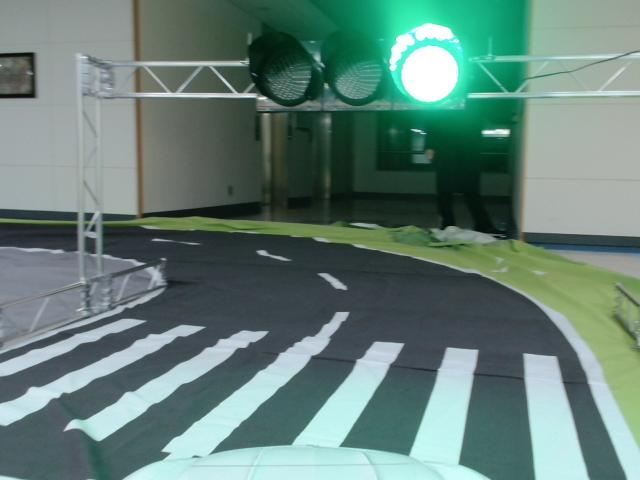crosswalk: (1, 317, 588, 480)
traffic light-green-: (251, 26, 469, 113)
